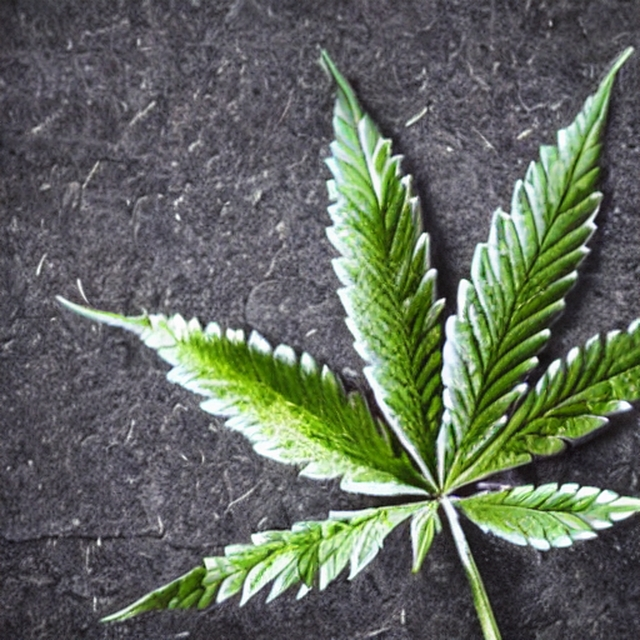Marijuana Leaf: (54, 42, 640, 639)
